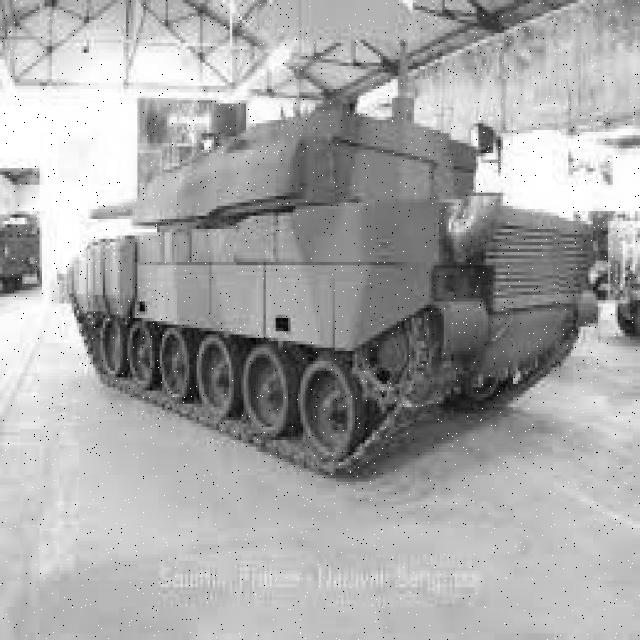MIL_MBT: (88, 99, 559, 450)
